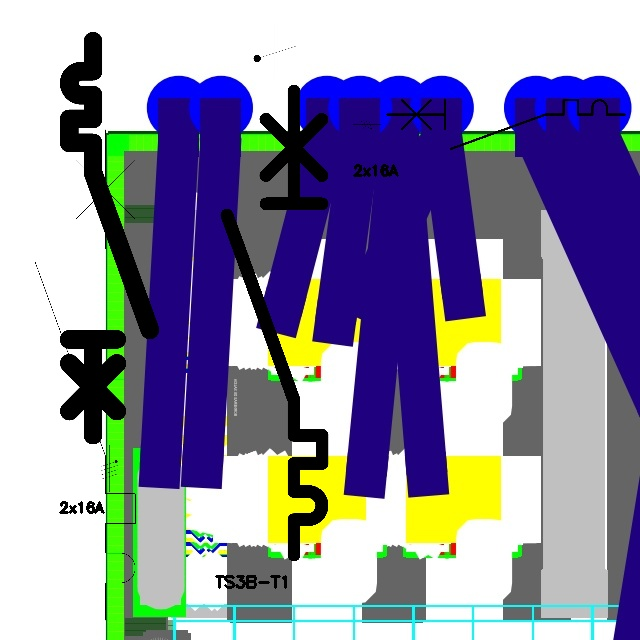interruptor_termomagnetico: (22, 117, 148, 633), (215, 79, 334, 567), (59, 31, 160, 445), (381, 94, 631, 155)
